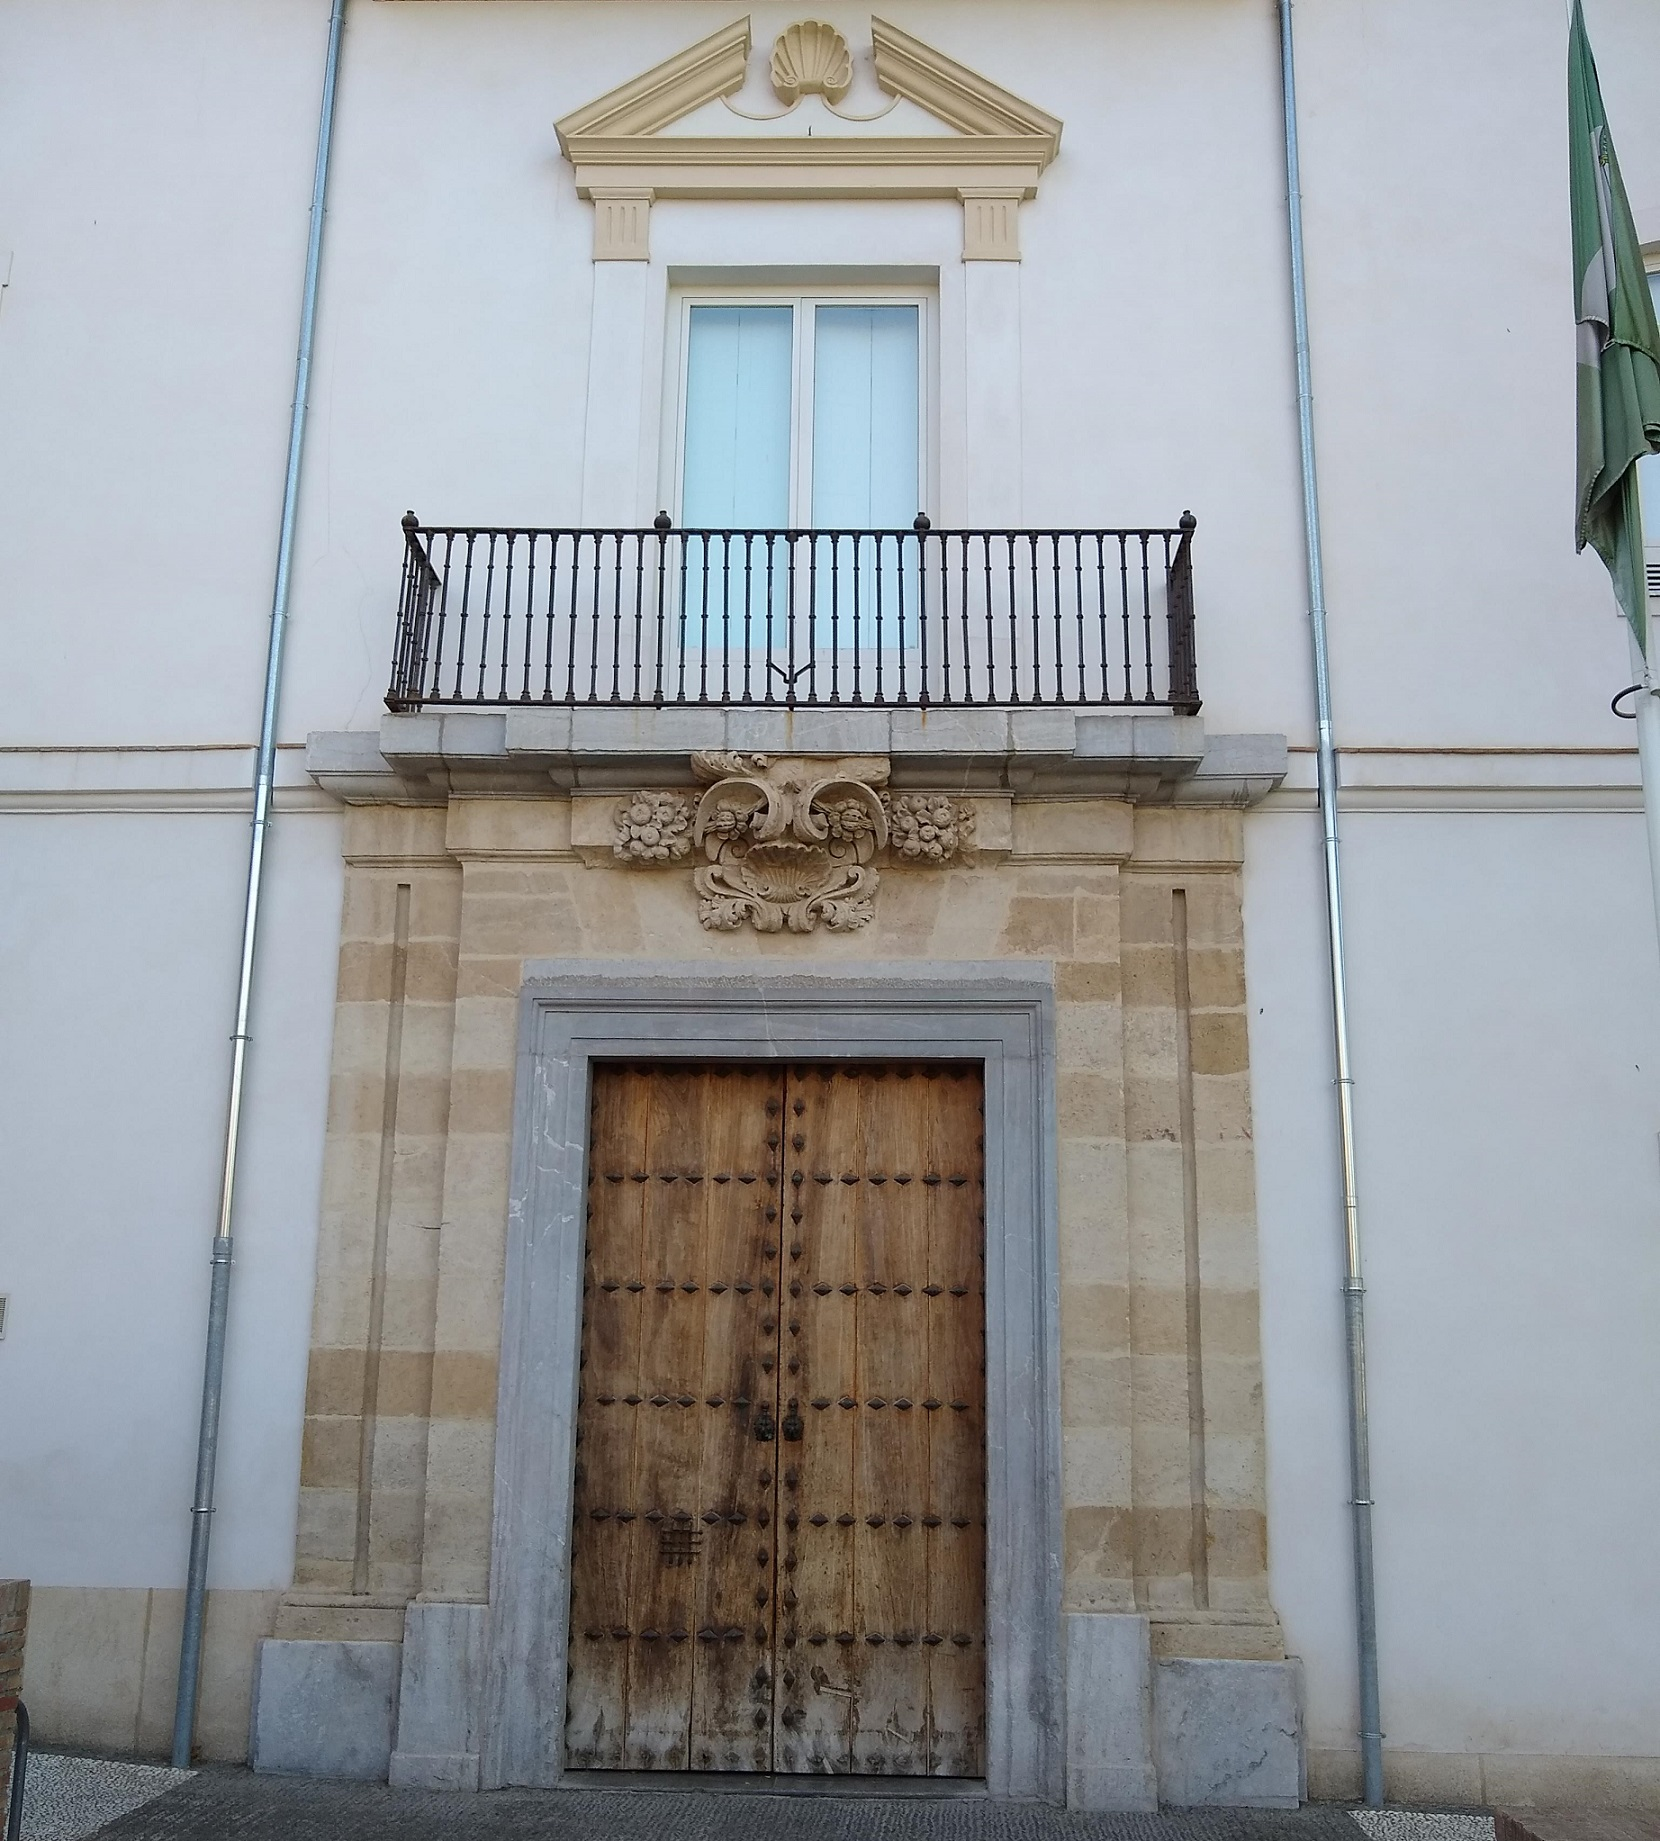fronton-partido: (545, 3, 1085, 187)
vano-adintelado: (490, 950, 1070, 1803), (644, 247, 961, 702)
